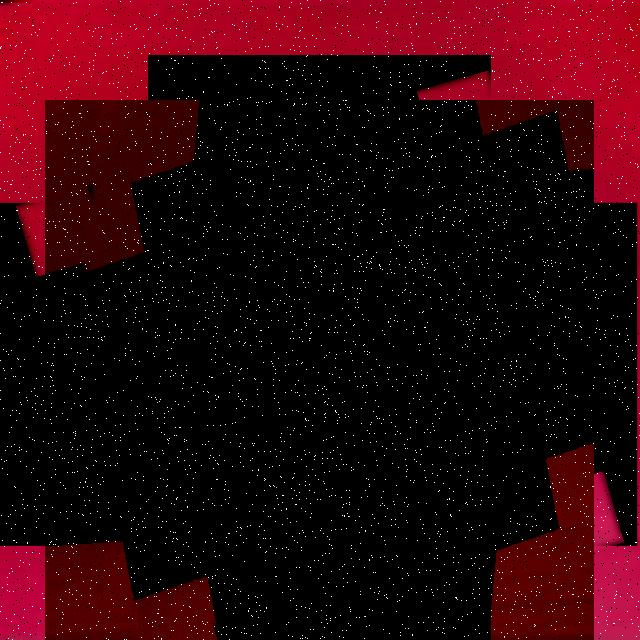dua ribu rupiah: (45, 100, 594, 640)
